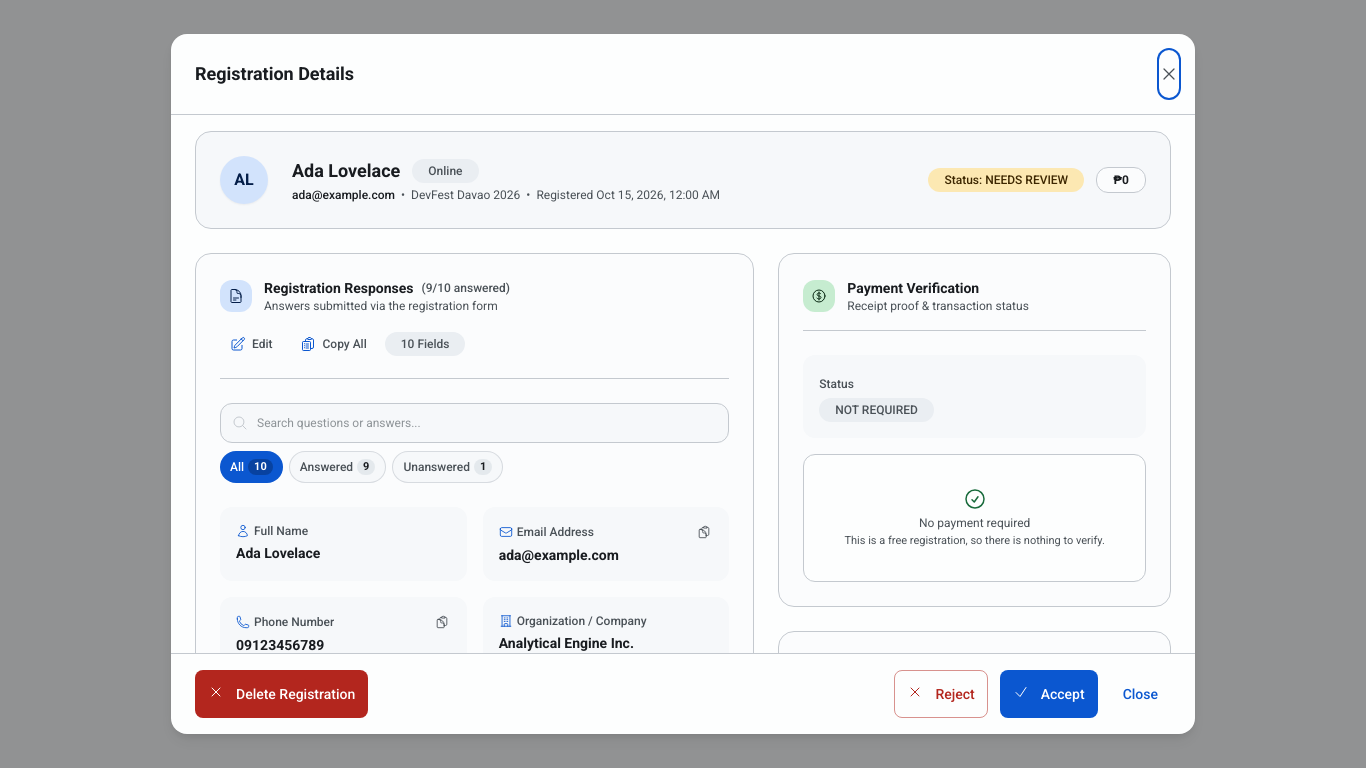
Scenario: RegistrationDetailsModal — Registration Responses UI/UX › filters by answered and unanswered chips
Note: Click "Unanswered" filter tab
Click the tab "Unanswered 1": x=448, y=467 [392, 451, 503, 483]
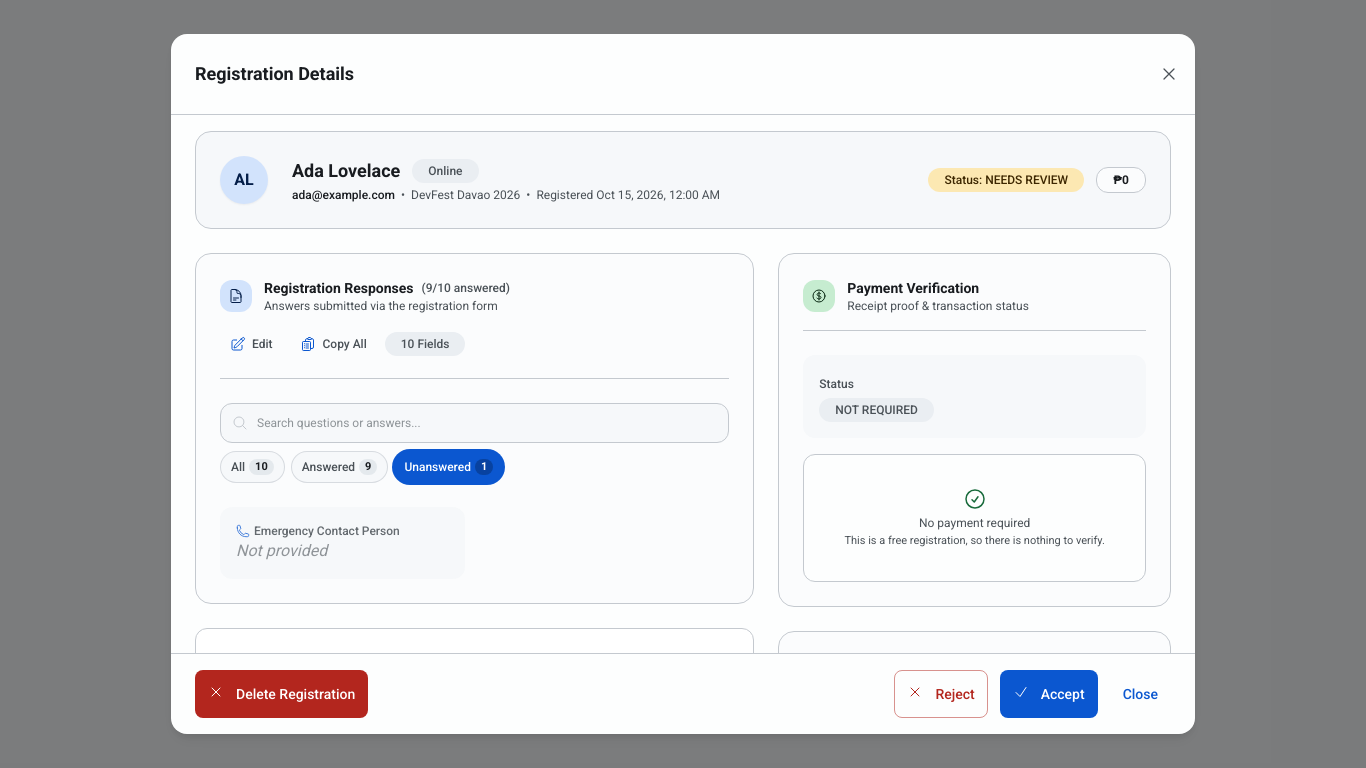
Expected: the text "T-Shirt Size" is not shown
Expected: the text "Emergency Contact Person" is shown, [254, 523, 400, 539]
Expected: the text "Not provided" is shown, [236, 541, 327, 560]
Note: Switch back to "All"
Click the tab "All 10": x=252, y=467 [220, 451, 285, 483]
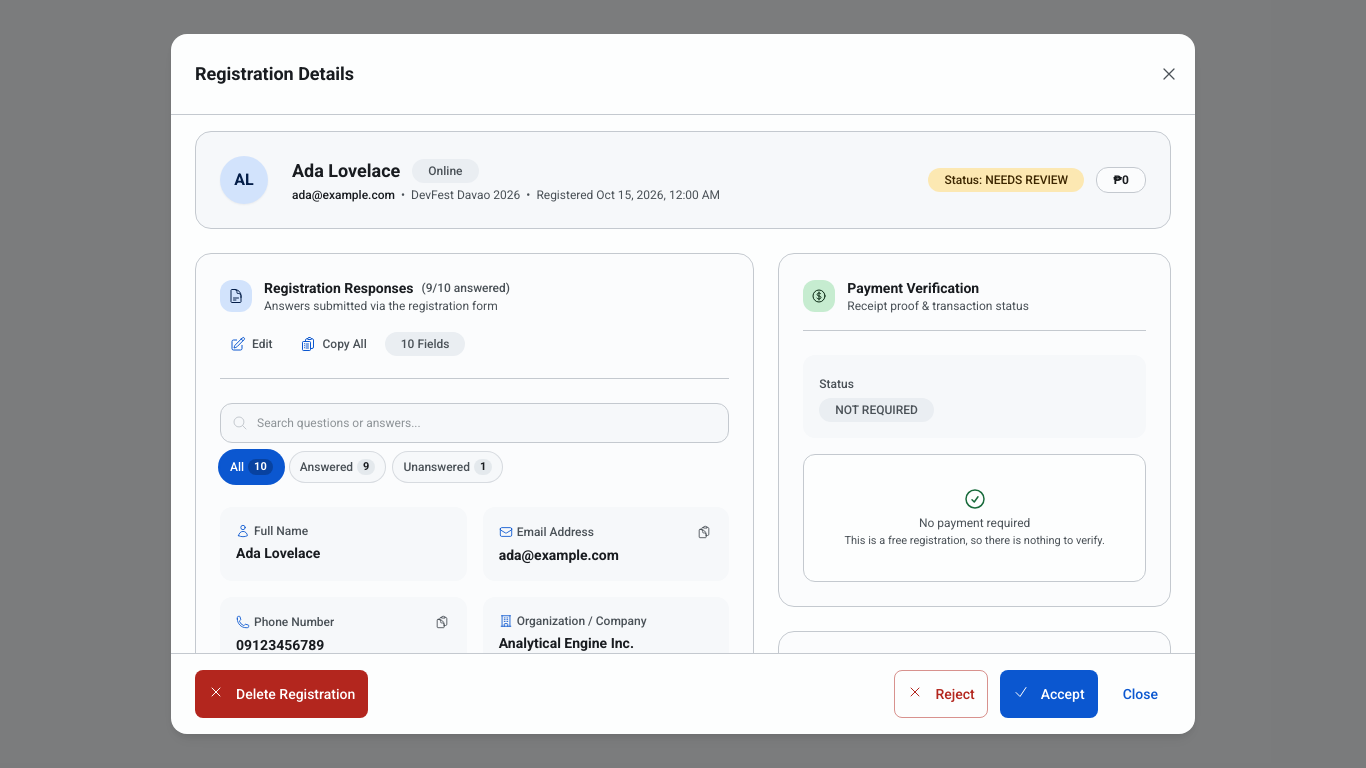
Expected: the text "Full Name" is shown, [254, 523, 308, 539]
